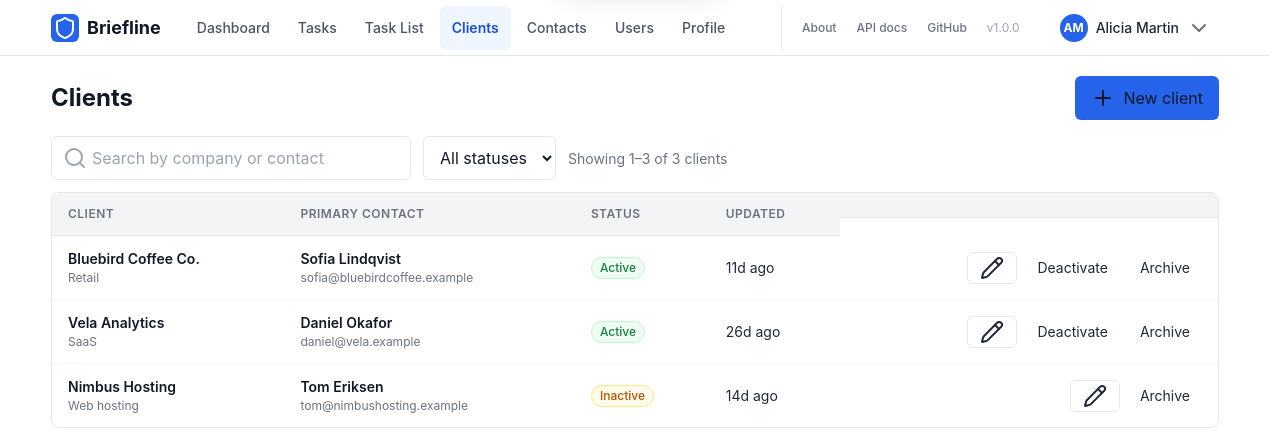
Test: Client list › lets an admin filter by status, including archived
This screenshot has width=1280, height=445.
Expected: the heading "Clients" is shown, [51,83,133,113]
Expected: the table named "Clients" is shown, [52,193,1218,427]
Select "Archived" in the dropdown named "Filter clients by status" at (490, 158), box [423,136,556,180]
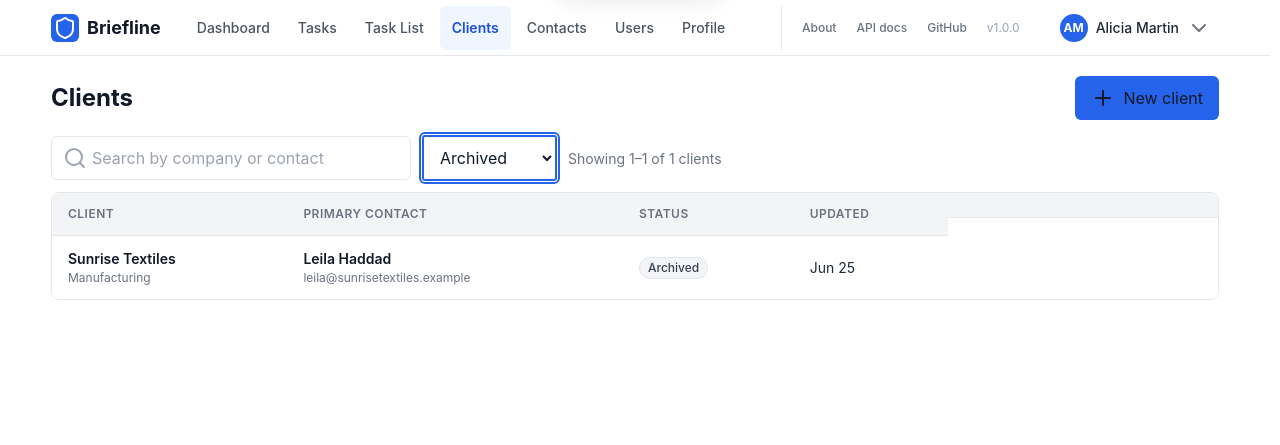
Now the link "Sunrise Textiles" is shown, box [68,250,176,267]
Now the text "Showing 1–1 of 1 clients" is shown, box [568,148,722,168]
